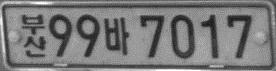0: (169, 14, 195, 58)
1: (198, 13, 224, 59)
7: (226, 13, 252, 59), (138, 13, 165, 57)
9: (47, 13, 72, 57), (75, 13, 100, 56)
바: (102, 16, 130, 55)
부산_V: (21, 14, 46, 58)
